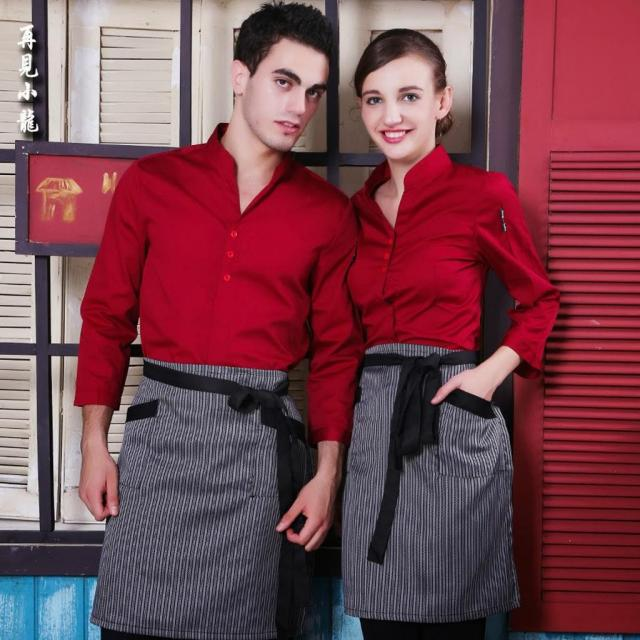nomask: (250, 26, 330, 149), (360, 50, 438, 160)
